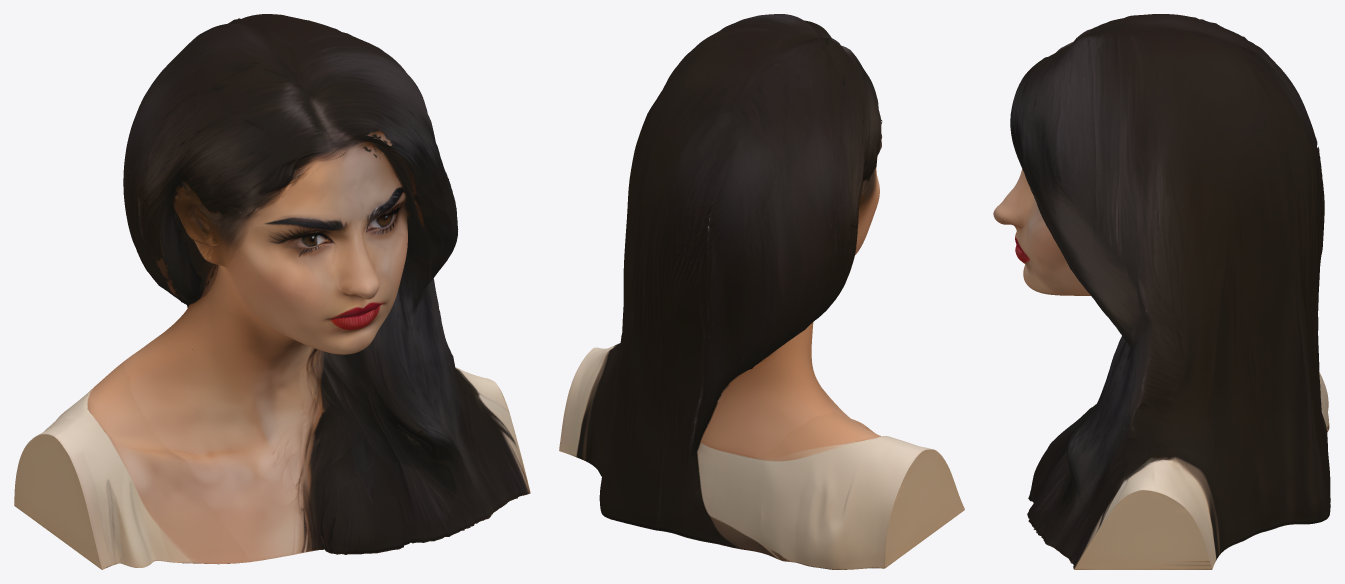
The picture shows the model from 3 angles, left to right: view 1: azimuth 30°, elevation 25°; view 2: azimuth 150°, elevation 25°; view 3: azimuth 270°, elevation 25°; orthographic projection. The views are drawn at different scales.
Visible parts, largest first — view 1: model; view 2: model; view 3: model.
Boxes of the visible parts, bbox=[...] form: model: bbox=[14, 14, 530, 569]; model: bbox=[559, 14, 964, 569]; model: bbox=[993, 14, 1330, 569].
Size of the model in its own units: 1.66 by 1.89 by 1.29.
Materials: 1 (1 with a texture image).
